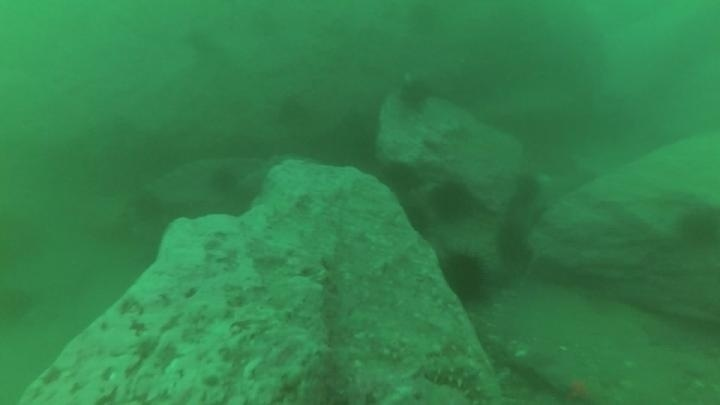echinus: (438, 250, 490, 306), (428, 178, 474, 223), (676, 203, 719, 251), (377, 159, 422, 199), (493, 218, 530, 266), (395, 76, 435, 115), (0, 283, 36, 326), (399, 200, 434, 239), (510, 171, 543, 207), (206, 165, 241, 196)
holothurian: (419, 353, 507, 404)
starfish: (541, 361, 613, 405)
